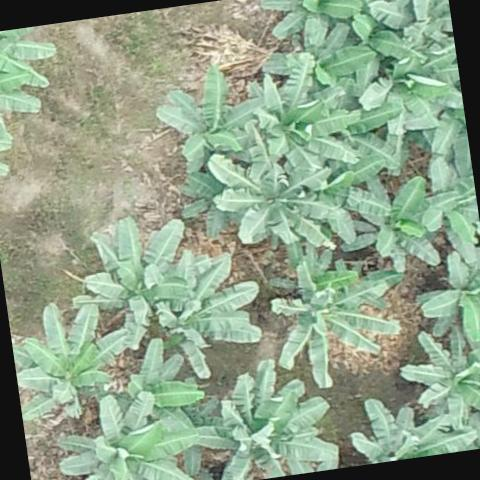Banana-plant: (191, 360, 341, 480), (269, 253, 402, 384), (152, 246, 268, 381), (74, 216, 196, 341), (12, 294, 136, 416), (211, 139, 336, 256), (62, 387, 207, 480), (250, 59, 358, 178), (358, 23, 466, 140), (350, 174, 444, 272), (164, 66, 258, 162), (269, 16, 379, 98), (404, 324, 480, 435), (122, 338, 210, 433), (416, 249, 480, 352), (0, 25, 62, 104), (266, 0, 364, 45)
